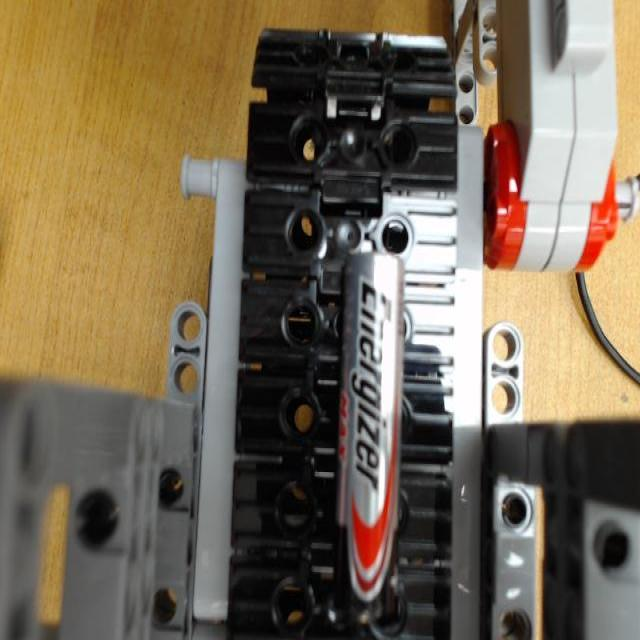AAA: (340, 251, 406, 624)
